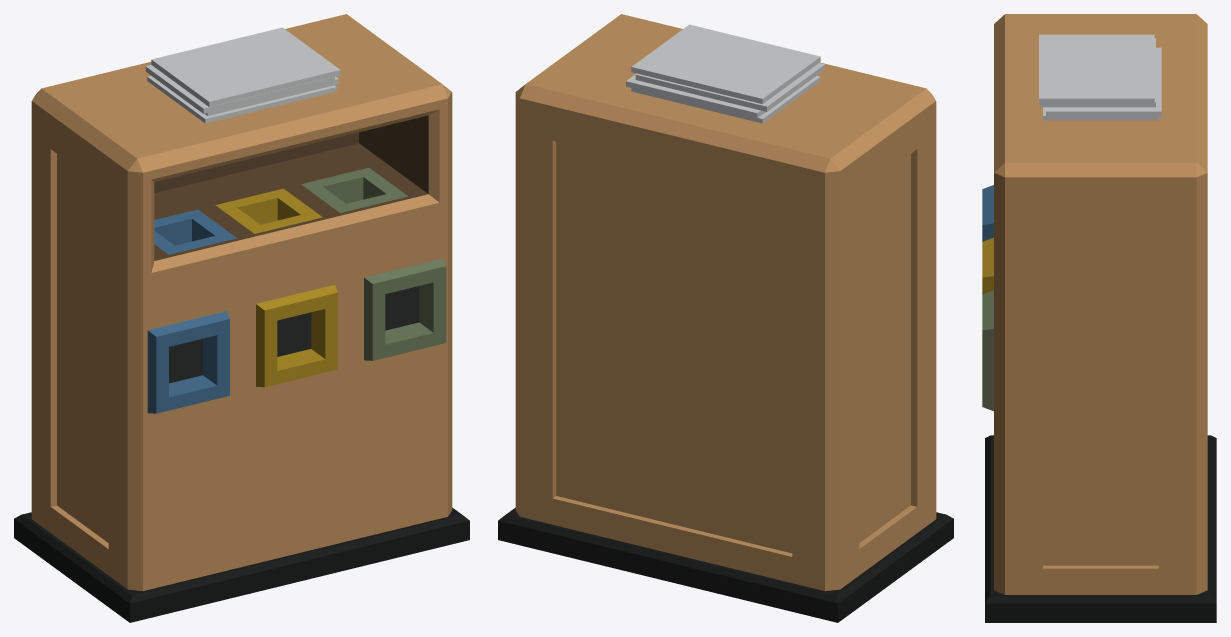
Rendered from waste-sorting-station-adeefd.glb.
3 renders of one model, left to right at view 1: azimuth 30°, elevation 25°; view 2: azimuth 150°, elevation 25°; view 3: azimuth 270°, elevation 25°, orthographic.
Visible parts, largest first — view 1: object 1, object 3, flaps; view 2: object 1, object 3; view 3: object 1, object 3.
Part boxes in pixels (<box>): object 1: <box>14,14,469,622</box>; object 3: <box>145,27,340,123</box>; flaps: <box>169,286,419,383</box>; object 1: <box>498,14,953,622</box>; object 3: <box>626,24,824,123</box>; object 1: <box>982,14,1216,622</box>; object 3: <box>1039,34,1161,120</box>.
Size of the model in its own units: 0.88 by 1.18 by 0.526.
